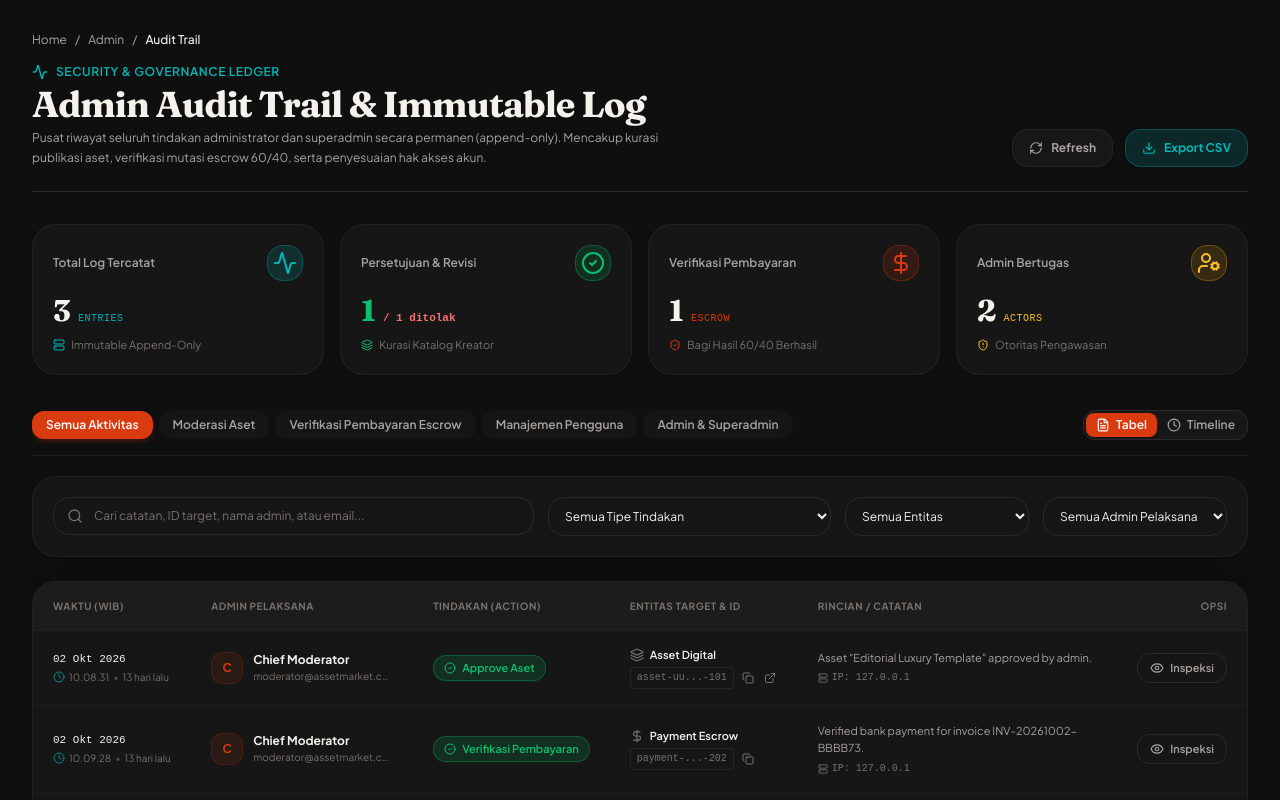
Test: AdminAuditTrailPage.vue Component Integration › opens detail inspection modal when "Inspeksi" is clicked
This screenshot has width=1280, height=800.
Click the button "Inspeksi" in the row of "10.08.31". click: coordinates (1182, 668)
box: [1137,652,1227,682]
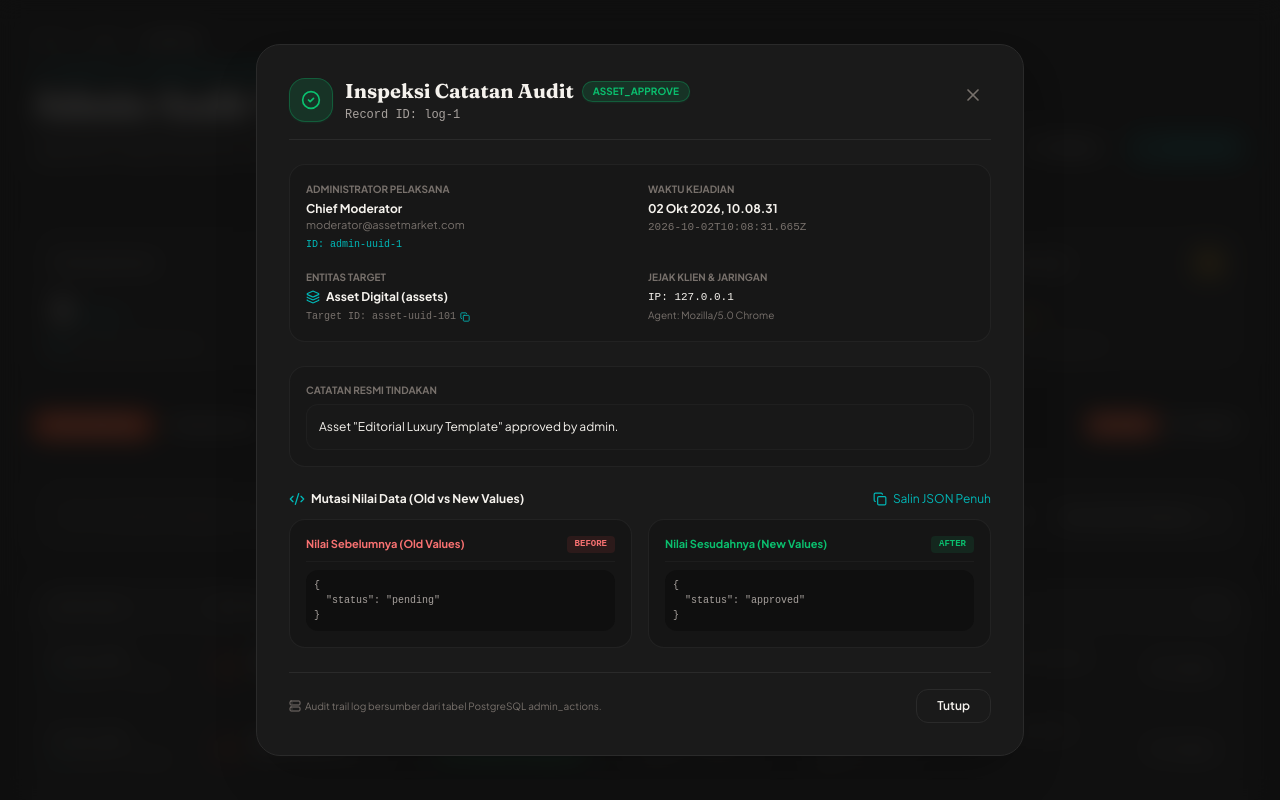
Now the text "Inspeksi Catatan Audit" is shown, box [345,77,574,105]
Now the text "Record ID: log-1" is shown, box [345,108,460,122]
Now the text "Mutasi Nilai Data (Old vs New Values)" is shown, box [311,490,524,506]
Click the button "Tutup". click: coordinates (954, 706)
box: [916,689,991,723]
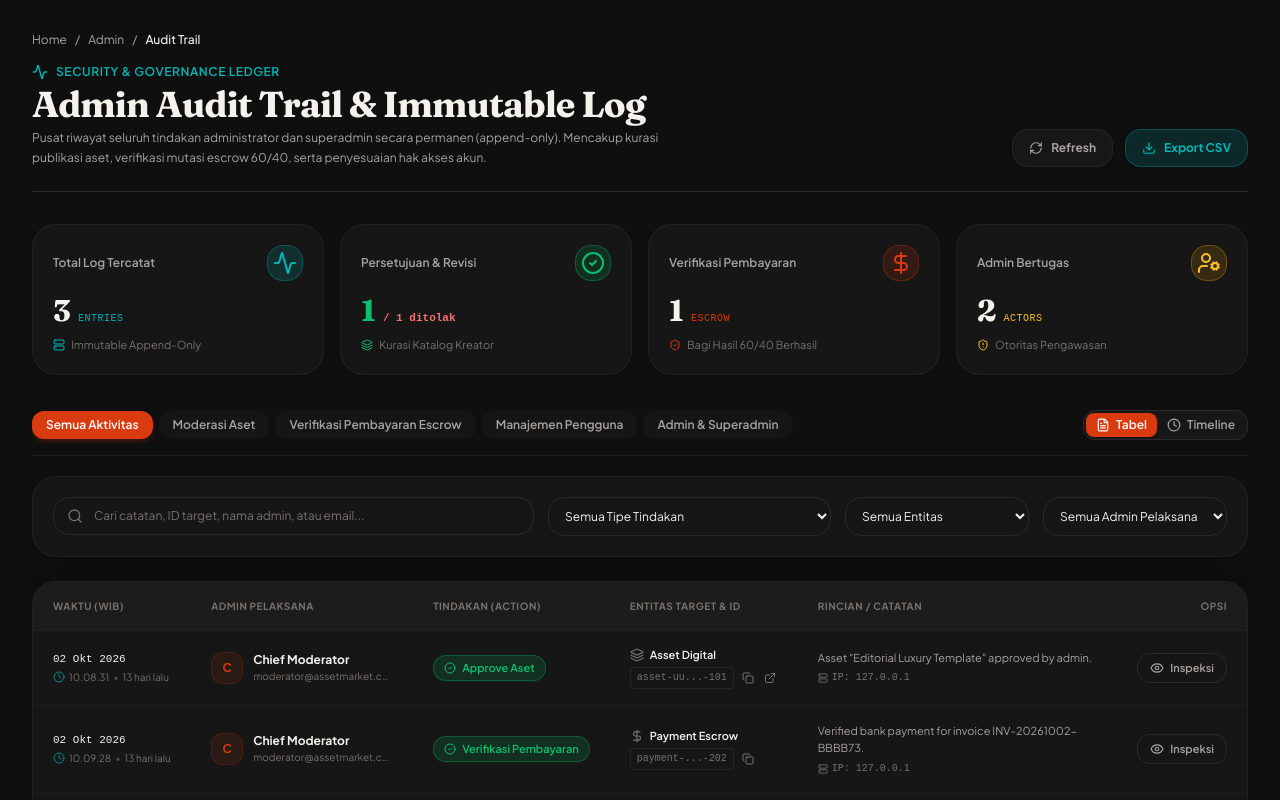
Now the text "Inspeksi Catatan Audit" is gone
